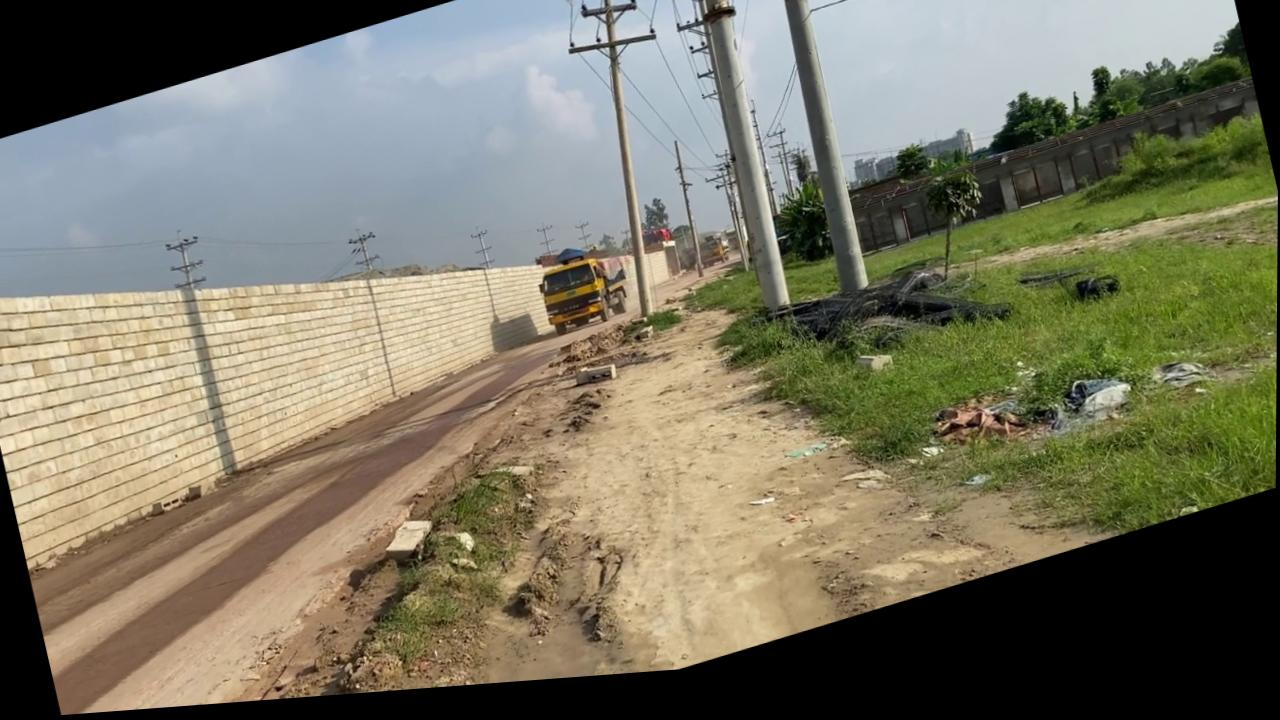Fallen-tree: (910, 156, 1000, 300)
Fence: (840, 93, 1265, 274)
Obstacle: (379, 518, 440, 578), (572, 365, 618, 399)
Pole: (553, 0, 717, 336), (673, 0, 804, 333), (751, 0, 878, 314)
Rickshaw: (187, 175, 1117, 709)
Tree: (533, 253, 634, 348), (695, 241, 730, 280), (640, 233, 672, 259)
Upstairs: (0, 102, 689, 574)
